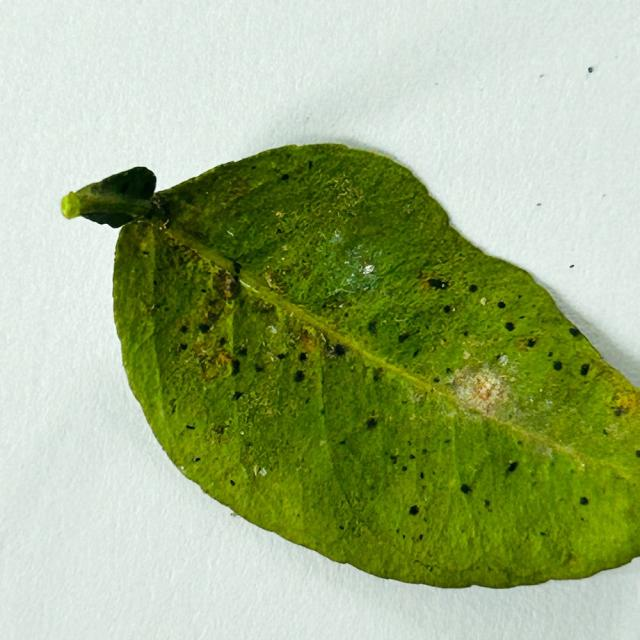Bacterial_Blight: (379, 439, 438, 504), (230, 374, 286, 429), (456, 367, 511, 415), (174, 310, 228, 356), (321, 179, 366, 214), (176, 216, 214, 243), (268, 207, 297, 239), (604, 413, 635, 440), (213, 270, 240, 300), (254, 348, 285, 374), (610, 387, 638, 414), (321, 291, 353, 312), (417, 271, 452, 290), (263, 268, 285, 292), (292, 260, 316, 282), (250, 297, 277, 315), (297, 331, 319, 353), (325, 342, 345, 358), (515, 337, 536, 351), (230, 185, 248, 199), (211, 423, 226, 436), (402, 206, 412, 215)
Lemon: (58, 143, 639, 592)
